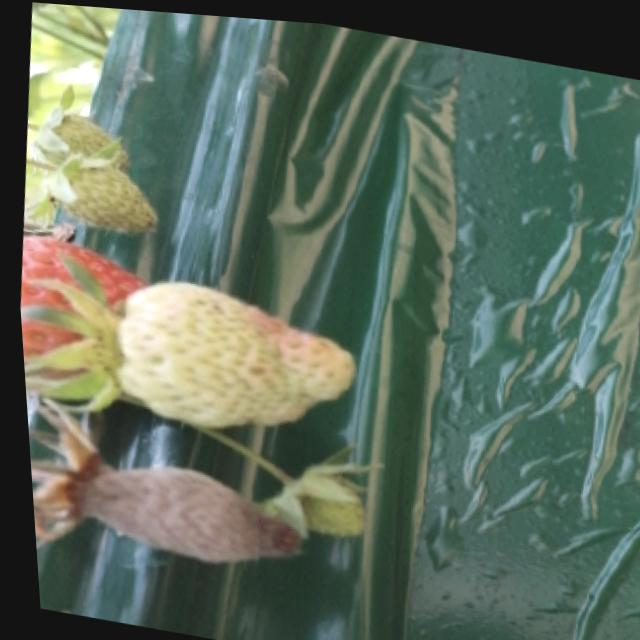Gray Mold: (24, 401, 298, 560)
